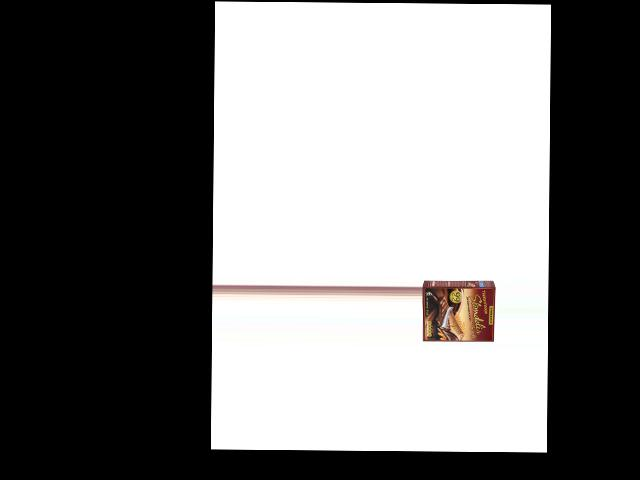chocolate: (421, 276, 496, 348)
